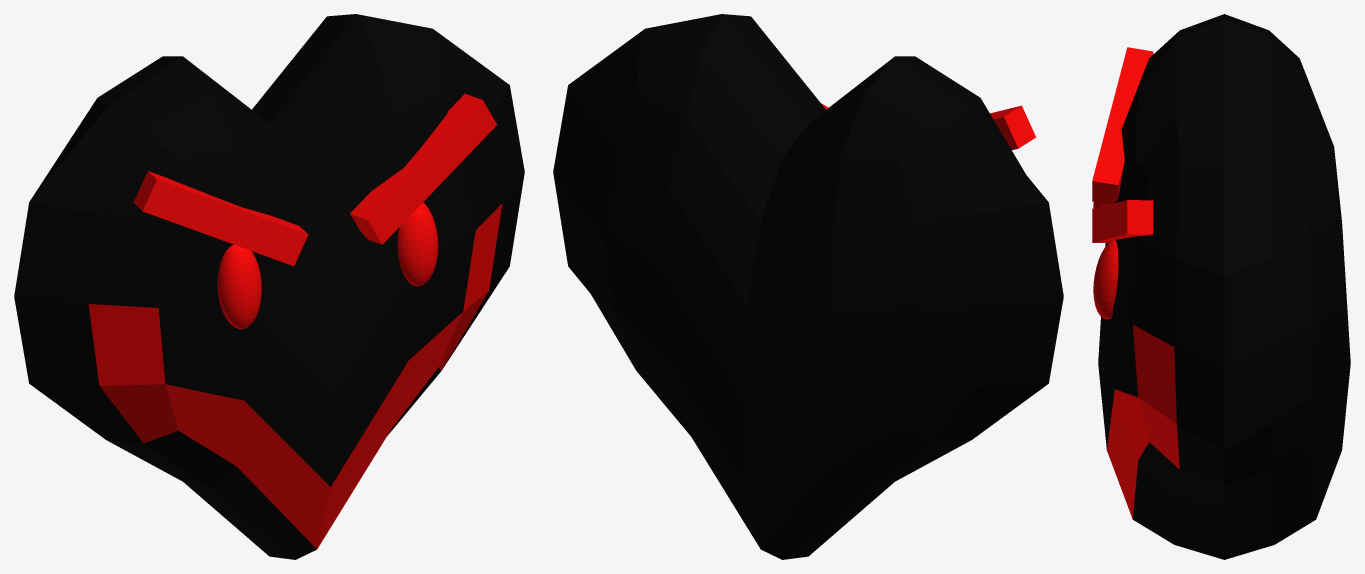
File: evilHeart.glb
3 renders of one model, left to right at view 1: azimuth 30°, elevation 25°; view 2: azimuth 150°, elevation 25°; view 3: azimuth 270°, elevation 25°, orthographic. The views are drawn at different scales.
Parts seen in each view (by area): view 1: Cube, Cube.001, Sphere; view 2: Cube, Cube.001; view 3: Cube, Cube.001, Sphere.
Part boxes in pixels (x1,y1,x2,y2): Cube: (14,14,524,559); Cube.001: (133,93,496,266); Sphere: (217,202,438,329); Cube: (553,14,1063,559); Cube.001: (821,103,1036,150); Cube: (1098,14,1350,559); Cube.001: (1092,47,1153,242); Sphere: (1093,202,1118,319).
Size of the model in its own units: 1.96 by 1.92 by 0.8957.
Materials: 1 (1 with a texture image).
